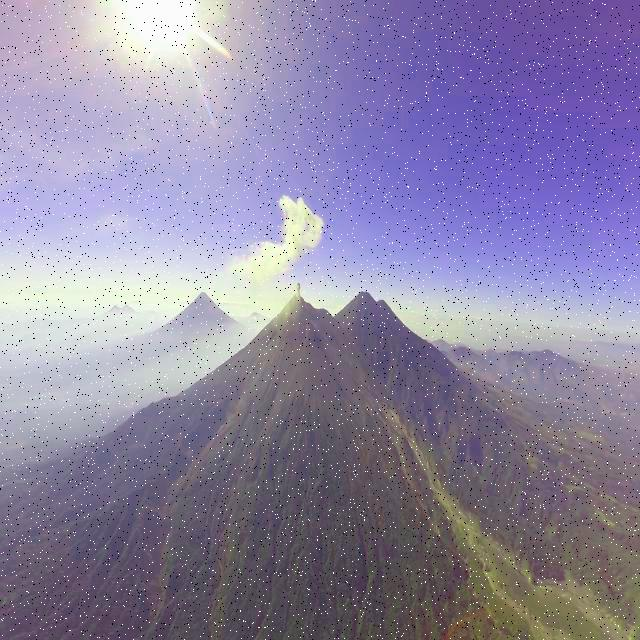Plume: (225, 192, 323, 285), (294, 278, 302, 294)
Summit: (279, 294, 315, 314)
